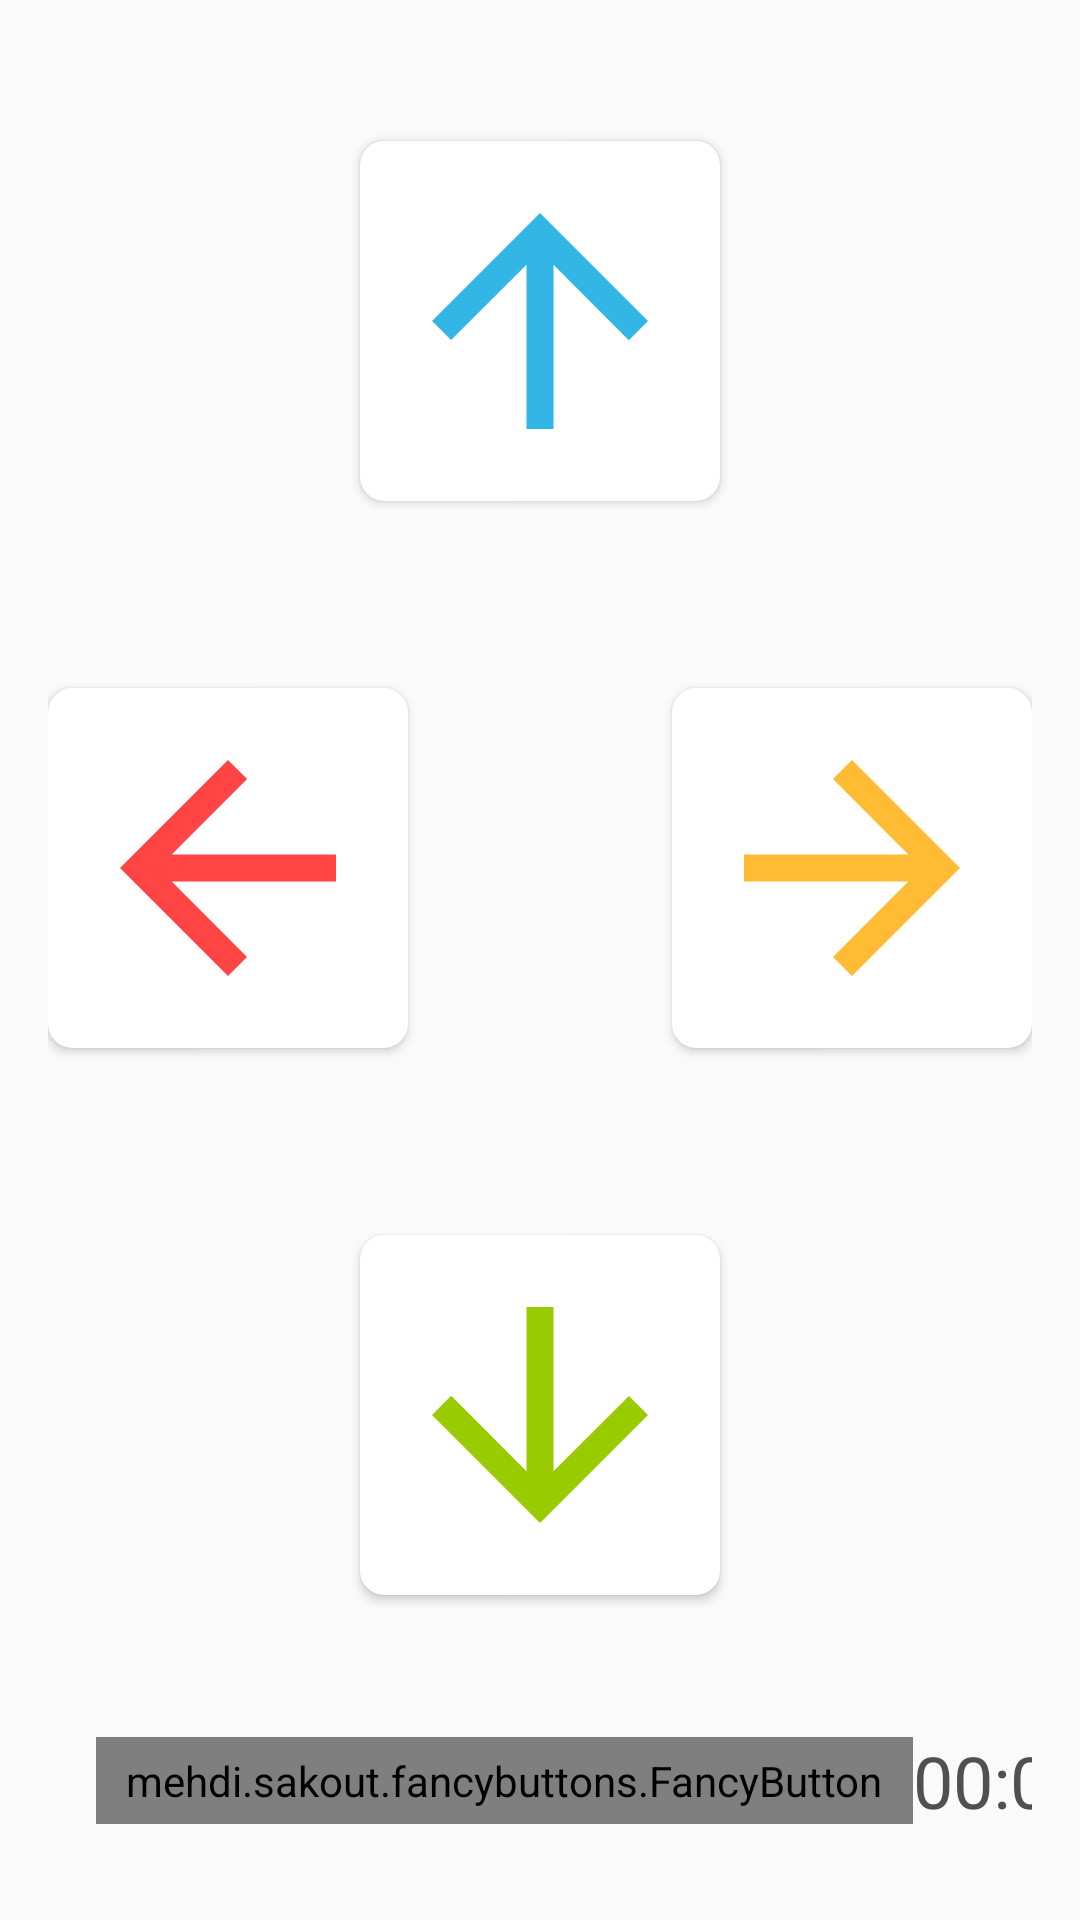

Screen size 1080×1920. Icon name, then its box in pixels as (x1, y1, x2, y2):
arrow downward: (432, 1307, 648, 1523)
arrow left: (120, 760, 336, 976)
arrow right: (744, 760, 960, 976)
arrow upward: (432, 213, 648, 429)
